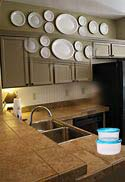copymove: (21, 36, 96, 63)
removal: (72, 84, 98, 104)
spliced: (96, 126, 122, 155)
